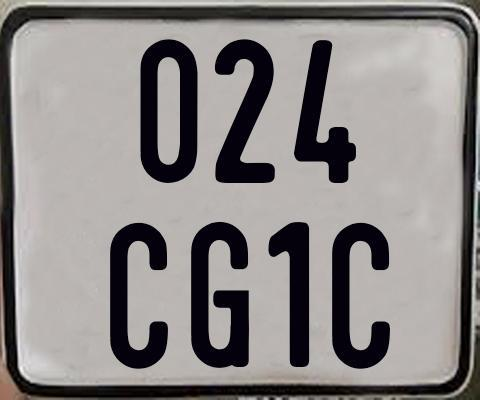0: (140, 37, 203, 186)
1: (265, 222, 310, 371)
2: (212, 38, 277, 186)
4: (291, 39, 359, 185)
C: (108, 223, 166, 375), (331, 221, 389, 370)
G: (190, 220, 250, 367)
